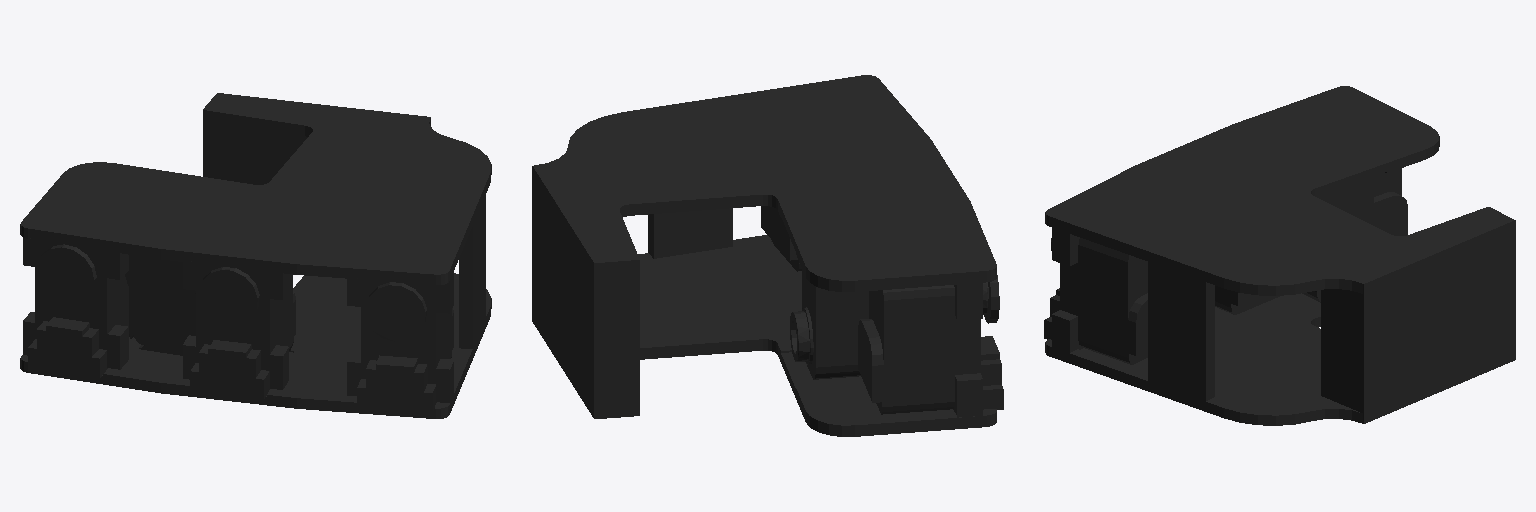
The robot description file, URDF, robot "kuka_allegro":
<?xml version="1.0" ?>
<!-- =================================================================================== -->
<!-- |    This document was autogenerated by xacro from lula_kuka_allegro.urdf.xacro   | -->
<!-- |    EDITING THIS FILE BY HAND IS NOT RECOMMENDED                                 | -->
<!-- =================================================================================== -->
<robot name="kuka_allegro" xmlns:xacro="http://www.ros.org/wiki/xacro">
  <!-- ======================== BASE PARAMS ========================= -->
  <!-- ======================== FINGER PARAMS ======================== -->
  <!-- full height from joint to tip. when used,
       the radius of the finger tip sphere will be subtracted
       and one fixed link will be added for the tip. -->
  <!-- ========================= THUMB PARAMS ========================= -->
  <!-- ========================= LIMITS ========================= -->
  <!-- ============================================================================= -->
  <!-- BASE -->
  <link name="allegro_mount">
    <inertial>
      <mass value="0.05"/>
      <origin rpy="0 0 0" xyz="0 0 0"/>
      <inertia ixx="1e-4" ixy="0" ixz="0" iyy="1e-4" iyz="0" izz="1e-4"/>
    </inertial>
    <visual>
      <origin rpy="0 0 0" xyz="0 0 0"/>
      <geometry>
        <mesh filename="kuka_allegro_description/meshes/mounts/allegro_mount.obj"/>
      </geometry>
      <material name="color_j7"/>
    </visual>
    <collision>
      <origin rpy="0 0 0" xyz="0 0 0"/>
      <geometry>
        <mesh filename="kuka_allegro_description/meshes/mounts/allegro_mount.obj"/>
      </geometry>
    </collision>
  </link>
  <joint name="allegro_mount_joint" type="fixed">
    <origin rpy="0 -1.5708 0.785398" xyz="-0.008219 -0.02063 0.08086"/>
    <parent link="allegro_mount"/>
    <child link="palm_link"/>
  </joint>
  <link name="palm_link">
    <inertial>
      <mass value="0.4154"/>
      <origin rpy="0 0 0" xyz="0 0 0"/>
      <inertia ixx="1e-4" ixy="0" ixz="0" iyy="1e-4" iyz="0" izz="1e-4"/>
    </inertial>
    <visual>
      <geometry>
        <mesh filename="kuka_allegro_description/meshes/allegro/base_link.obj"/>
      </geometry>
      <origin rpy="0 0 0" xyz="0 0 0 "/>
      <material name="Grey">
        <color rgba="0.2 0.2 0.2 1"/>
      </material>
    </visual>
    <collision>
      <origin rpy="0 0 0" xyz="0 0 0"/>
      <geometry>
        <mesh filename="kuka_allegro_description/meshes/allegro/base_link.obj"/>
      </geometry>
    </collision>
  </link>
  
  <gazebo reference="palm_link">
    <material value="Gazebo/Grey"/>
  </gazebo>
  <link name="index_link_0">
    <collision>
      <geometry>
        <mesh filename="kuka_allegro_description/meshes/allegro/primary_base.obj"/>
      </geometry>
    </collision>
    <inertial>
      <mass value="0.005"/>
      <inertia ixx="5.1458e-5" ixy="0" ixz="0" iyy="5.1458e-5" iyz="0" izz="6.125e-5"/>
    </inertial>
    <visual>
      <geometry>
        <mesh filename="kuka_allegro_description/meshes/allegro/primary_base.obj"/>
      </geometry>
      <material name="Grey">
        <color rgba="0.2 0.2 0.2 1"/>
      </material>
    </visual>
  </link>
  <link name="index_link_1">
    <collision>
      <geometry>
        <mesh filename="kuka_allegro_description/meshes/allegro/primary_proximal.obj"/>
      </geometry>
    </collision>
    <inertial>
      <mass value="0.005"/>
      <inertia ixx="5.1458e-5" ixy="0" ixz="0" iyy="5.1458e-5" iyz="0" izz="6.125e-5"/>
    </inertial>
    <visual>
      <geometry>
        <mesh filename="kuka_allegro_description/meshes/allegro/primary_proximal.obj"/>
      </geometry>
      <material name="Grey">
        <color rgba="0.2 0.2 0.2 1"/>
      </material>
    </visual>
  </link>
  <link name="index_link_2">
    <collision>
      <geometry>
        <mesh filename="kuka_allegro_description/meshes/allegro/primary_medial.obj"/>
      </geometry>
    </collision>
    <inertial>
      <mass value="0.05"/>
      <inertia ixx="5.1458e-5" ixy="0" ixz="0" iyy="5.1458e-5" iyz="0" izz="6.125e-5"/>
    </inertial>
    <visual>
      <geometry>
        <mesh filename="kuka_allegro_description/meshes/allegro/primary_medial.obj"/>
      </geometry>
      <material name="Grey">
        <color rgba="0.2 0.2 0.2 1"/>
      </material>
    </visual>
  </link>
  <link name="index_link_3">
    <collision>
      <geometry>
        <mesh filename="kuka_allegro_description/meshes/allegro_ros/link_3.0.STL"/>
      </geometry>
    </collision>
    <inertial>
      <mass value="0.11"/>
      <inertia ixx="5.1458e-5" ixy="0" ixz="0" iyy="5.1458e-5" iyz="0" izz="6.125e-5"/>
    </inertial>
    <visual>
      <origin xyz="0 0 0" rpy="1.570795 0 1.570795" />
      <geometry>
        <mesh filename="kuka_allegro_description/meshes/allegro_ros/link_3.0.STL"/>
      </geometry>
      <material name="Green">
        <color rgba="0. 0.5 0. 1"/>
      </material>
    </visual>
  </link>
  <link name="index_biotac_tip">
    <inertial>
      <mass value="0.04"/>
      <inertia ixx="5.1458e-5" ixy="0" ixz="0" iyy="5.1458e-5" iyz="0" izz="6.125e-5"/>
    </inertial>
    <visual>
      <geometry>
        <mesh filename="kuka_allegro_description/meshes/allegro_ros/link_3.0_tip.STL"/>
      </geometry>
      <material name="white">
        <color rgba=".9 .9 .9 1"/>
      </material>
    </visual>
    <collision>
      <geometry>
        <sphere radius="0.012"/>
      </geometry>
    </collision>
  </link>
  <link name="middle_link_0">
    <collision>
      <geometry>
        <mesh filename="kuka_allegro_description/meshes/allegro/primary_base.obj"/>
      </geometry>
    </collision>
    <inertial>
      <mass value="0.1"/>
      <inertia ixx="5.1458e-5" ixy="0" ixz="0" iyy="5.1458e-5" iyz="0" izz="6.125e-5"/>
    </inertial>
    <visual>
      <geometry>
        <mesh filename="kuka_allegro_description/meshes/allegro/primary_base.obj"/>
      </geometry>
      <material name="Grey">
        <color rgba="0.2 0.2 0.2 1"/>
      </material>
    </visual>
  </link>
  <link name="middle_link_1">
    <collision>
      <geometry>
        <mesh filename="kuka_allegro_description/meshes/allegro/primary_proximal.obj"/>
      </geometry>
    </collision>
    <inertial>
      <mass value="0.1"/>
      <inertia ixx="5.1458e-5" ixy="0" ixz="0" iyy="5.1458e-5" iyz="0" izz="6.125e-5"/>
    </inertial>
    <visual>
      <geometry>
        <mesh filename="kuka_allegro_description/meshes/allegro/primary_proximal.obj"/>
      </geometry>
      <material name="Grey">
        <color rgba="0.2 0.2 0.2 1"/>
      </material>
    </visual>
  </link>
  <link name="middle_link_2">
    <collision>
      <geometry>
        <mesh filename="kuka_allegro_description/meshes/allegro/primary_medial.obj"/>
      </geometry>
    </collision>
    <inertial>
      <mass value="0.1"/>
      <inertia ixx="5.1458e-5" ixy="0" ixz="0" iyy="5.1458e-5" iyz="0" izz="6.125e-5"/>
    </inertial>
    <visual>
      <geometry>
        <mesh filename="kuka_allegro_description/meshes/allegro/primary_medial.obj"/>
      </geometry>
      <material name="Grey">
        <color rgba="0.2 0.2 0.2 1"/>
      </material>
    </visual>
  </link>
  <link name="middle_link_3">
    <collision>
      <geometry>
        <mesh filename="kuka_allegro_description/meshes/allegro_ros/link_3.0.STL"/>
      </geometry>
    </collision>
    <inertial>
      <mass value="0.1"/>
      <inertia ixx="5.1458e-5" ixy="0" ixz="0" iyy="5.1458e-5" iyz="0" izz="6.125e-5"/>
    </inertial>
    <visual>
      <origin xyz="0 0 0" rpy="1.570795 0 1.570795" />
      <geometry>
        <mesh filename="kuka_allegro_description/meshes/allegro_ros/link_3.0.STL"/>
      </geometry>
      <material name="Green">
        <color rgba="0. 0.5 0. 1"/>
      </material>
    </visual>
  </link>
  <link name="middle_biotac_tip">
    <inertial>
      <mass value="0.1"/>
      <inertia ixx="5.1458e-5" ixy="0" ixz="0" iyy="5.1458e-5" iyz="0" izz="6.125e-5"/>
    </inertial>
    <visual>
      <geometry>
        <mesh filename="kuka_allegro_description/meshes/allegro_ros/link_3.0_tip.STL"/>
      </geometry>
      <material name="white">
        <color rgba=".9 .9 .9 1"/>
      </material>
    </visual>
    <collision>
      <geometry>
        <sphere radius="0.012"/>
      </geometry>
    </collision>
  </link>
-->
  <link name="ring_link_0">
    <collision>
      <geometry>
        <mesh filename="kuka_allegro_description/meshes/allegro/primary_base.obj"/>
      </geometry>
    </collision>
    <inertial>
      <mass value="0.1"/>
      <inertia ixx="5.1458e-5" ixy="0" ixz="0" iyy="5.1458e-5" iyz="0" izz="6.125e-5"/>
    </inertial>
    <visual>
      <geometry>
        <mesh filename="kuka_allegro_description/meshes/allegro/primary_base.obj"/>
      </geometry>
      <material name="Grey">
        <color rgba="0.2 0.2 0.2 1"/>
      </material>
    </visual>
  </link>
  <link name="ring_link_1">
    <collision>
      <geometry>
        <mesh filename="kuka_allegro_description/meshes/allegro/primary_proximal.obj"/>
      </geometry>
    </collision>
    <inertial>
      <mass value="0.1"/>
      <inertia ixx="5.1458e-5" ixy="0" ixz="0" iyy="5.1458e-5" iyz="0" izz="6.125e-5"/>
    </inertial>
    <visual>
      <geometry>
        <mesh filename="kuka_allegro_description/meshes/allegro/primary_proximal.obj"/>
      </geometry>
      <material name="Grey">
        <color rgba="0.2 0.2 0.2 1"/>
      </material>
    </visual>
  </link>
  <link name="ring_link_2">
    <collision>
      <geometry>
        <mesh filename="kuka_allegro_description/meshes/allegro/primary_medial.obj"/>
      </geometry>
    </collision>
    <inertial>
      <mass value="0.1"/>
      <inertia ixx="5.1458e-5" ixy="0" ixz="0" iyy="5.1458e-5" iyz="0" izz="6.125e-5"/>
    </inertial>
    <visual>
      <geometry>
        <mesh filename="kuka_allegro_description/meshes/allegro/primary_medial.obj"/>
      </geometry>
      <material name="Grey">
        <color rgba="0.2 0.2 0.2 1"/>
      </material>
    </visual>
  </link>
  <link name="ring_link_3">
    <collision>
      <geometry>
        <mesh filename="kuka_allegro_description/meshes/allegro_ros/link_3.0.STL"/>
      </geometry>
    </collision>
    <inertial>
      <mass value="0.1"/>
      <inertia ixx="5.1458e-5" ixy="0" ixz="0" iyy="5.1458e-5" iyz="0" izz="6.125e-5"/>
    </inertial>
    <visual>
      <origin xyz="0 0 0" rpy="1.570795 0 1.570795" />
      <geometry>
        <mesh filename="kuka_allegro_description/meshes/allegro_ros/link_3.0.STL"/>
      </geometry>
      <material name="Green">
        <color rgba="0 0.5 0 1"/>
      </material>
    </visual>
  </link>

  <link name="ring_biotac_tip">
    <inertial>
      <mass value="0.1"/>
      <inertia ixx="5.1458e-5" ixy="0" ixz="0" iyy="5.1458e-5" iyz="0" izz="6.125e-5"/>
    </inertial>
    <visual>
      <geometry>
        <mesh filename="kuka_allegro_description/meshes/allegro_ros/link_3.0_tip.STL"/>
      </geometry>
      <material name="white">
        <color rgba=".9 .9 .9 1"/>
      </material>
    </visual>
    <collision>
      <geometry>
        <sphere radius="0.012"/>
      </geometry>
    </collision>
  </link>
  <link name="thumb_link_0">
    <collision>
      <geometry>
        <mesh filename="kuka_allegro_description/meshes/allegro/thumb_base.obj"/>
      </geometry>
    </collision>
    <inertial>
      <mass value="0.1"/>
      <inertia ixx="5.1458e-5" ixy="0" ixz="0" iyy="5.1458e-5" iyz="0" izz="6.125e-5"/>
    </inertial>
    <visual>
      <geometry>
        <mesh filename="kuka_allegro_description/meshes/allegro/thumb_base.obj"/>
      </geometry>
      <material name="Grey">
        <color rgba="0.2 0.2 0.2 1"/>
      </material>
    </visual>
  </link>
  <link name="thumb_link_1">
    <collision>
      <geometry>
        <mesh filename="kuka_allegro_description/meshes/allegro/thumb_proximal.obj"/>
      </geometry>
    </collision>
    <inertial>
      <mass value="0.1"/>
      <inertia ixx="5.1458e-5" ixy="0" ixz="0" iyy="5.1458e-5" iyz="0" izz="6.125e-5"/>
    </inertial>
    <visual>
      <geometry>
        <mesh filename="kuka_allegro_description/meshes/allegro/thumb_proximal.obj"/>
      </geometry>
      <material name="Grey">
        <color rgba="0.2 0.2 0.2 1"/>
      </material>
    </visual>
  </link>
  <link name="thumb_link_2">
    <collision>
      <geometry>
        <mesh filename="kuka_allegro_description/meshes/allegro/thumb_medial.obj"/>
      </geometry>
    </collision>
    <inertial>
      <mass value="0.1"/>
      <inertia ixx="5.1458e-5" ixy="0" ixz="0" iyy="5.1458e-5" iyz="0" izz="6.125e-5"/>
    </inertial>
    <visual>
      <geometry>
        <mesh filename="kuka_allegro_description/meshes/allegro/thumb_medial.obj"/>
      </geometry>
      <material name="Grey">
        <color rgba="0.2 0.2 0.2 1"/>
      </material>
    </visual>
  </link>
  <link name="thumb_link_3">
    <collision>
      <geometry>
        <mesh filename="kuka_allegro_description/meshes/allegro_ros/link_15.0.STL"/>
      </geometry>
    </collision>
    <inertial>
      <mass value="0.1"/>
      <inertia ixx="5.1458e-5" ixy="0" ixz="0" iyy="5.1458e-5" iyz="0" izz="6.125e-5"/>
    </inertial>
    <visual>
      <origin xyz="0 0 0" rpy="1.570795 0 1.570795" />
      <geometry>
        <mesh filename="kuka_allegro_description/meshes/allegro_ros/link_15.0.STL"/>
      </geometry>
      <material name="Green">
        <color rgba="0 0.5 0 1"/>
      </material>
    </visual>
  </link>
  <link name="thumb_biotac_tip">
    <inertial>
      <mass value="0.1"/>
      <inertia ixx="5.1458e-5" ixy="0" ixz="0" iyy="5.1458e-5" iyz="0" izz="6.125e-5"/>
    </inertial>
    <visual>
      <geometry>
        <mesh filename="kuka_allegro_description/meshes/allegro_ros/link_15.0_tip.STL"/>
      </geometry>
      <material name="white">
        <color rgba=".9 .9 .9 1"/>
      </material>
    </visual>
    <collision>
      <geometry>
        <sphere radius="0.012"/>
      </geometry>
    </collision>
  </link>

  <joint name="index_joint_0" type="revolute">
    <axis xyz="0 0 1"/>
    <limit effort="0.35" lower="-0.558488888889" upper="0.558488888889" velocity="6.283"/>
    <origin rpy="3.1415 -1.57075 -0.0872638888889" xyz="0.0514302 -0.03632 -0.0113"/>
    <parent link="palm_link"/>
    <child link="index_link_0"/>
    <dynamics damping="0.025" friction="0.035"/>
  </joint>
  <joint name="index_joint_1" type="revolute">
    <axis xyz="0 0 1"/>
    <limit effort="0.35" lower="-0.279244444444" upper="1.727825" velocity="6.283"/>
    <origin rpy="3.1415 -1.57075 1.57075" xyz="0.0 0.0 0.0"/>
    <parent link="index_link_0"/>
    <child link="index_link_1"/>
    <dynamics damping="0.025" friction="0.035"/>
  </joint>
  <joint name="index_joint_2" type="revolute">
    <axis xyz="0 0 1"/>
    <limit effort="0.35" lower="-0.279244444444" upper="1.727825" velocity="6.283"/>
    <origin rpy="0.0 0.0 0.0" xyz="0.054 0.0 0.0"/>
    <parent link="index_link_1"/>
    <child link="index_link_2"/>
    <dynamics damping="0.025" friction="0.035"/>
  </joint>
  <joint name="index_joint_3" type="revolute">
    <axis xyz="0 0 1"/>
    <limit effort="0.35" lower="-0.279244444444" upper="1.727825" velocity="6.283"/>
    <origin rpy="0.0 0.0 0.0" xyz="0.0384 0.0 0.0"/>
    <parent link="index_link_2"/>
    <child link="index_link_3"/>
    <dynamics damping="0.025" friction="0.035"/>
  </joint>
  <joint name="index_biotac_tip_joint" type="fixed">
    <origin rpy="1.57079 1.57079 1.57079" xyz="0.0266 0 0"/>
    <parent link="index_link_3"/>
    <child link="index_biotac_tip"/>
  </joint>
  <joint name="middle_joint_0" type="revolute">
    <axis xyz="0 0 1"/>
    <limit effort="0.35" lower="-0.558488888889" upper="0.558488888889" velocity="6.283"/>
    <origin rpy="3.1415 -1.57075 0" xyz="0.0537375 0.0087771 -0.0113"/>
    <parent link="palm_link"/>
    <child link="middle_link_0"/>
    <dynamics friction="0.035"/>
  </joint>

  <joint name="middle_joint_1" type="revolute">
    <axis xyz="0 0 1"/>
    <limit effort="0.35" lower="-0.279244444444" upper="1.727825" velocity="6.283"/>
    <origin rpy="3.1415 -1.57075 1.57075" xyz="0.0 0.0 0.0"/>
    <parent link="middle_link_0"/>
    <child link="middle_link_1"/>
    <dynamics friction="0.035"/>
  </joint>
  <joint name="middle_joint_2" type="revolute">
    <axis xyz="0 0 1"/>
    <limit effort="0.35" lower="-0.279244444444" upper="1.727825" velocity="6.283"/>
    <origin rpy="0.0 0.0 0.0" xyz="0.054 0.0 0.0"/>
    <parent link="middle_link_1"/>
    <child link="middle_link_2"/>
    <dynamics friction="0.035"/>
  </joint>
  <joint name="middle_joint_3" type="revolute">
    <axis xyz="0 0 1"/>
    <limit effort="0.35" lower="-0.279244444444" upper="1.727825" velocity="6.283"/>
    <origin rpy="0.0 0.0 0.0" xyz="0.0384 0.0 0.0"/>
    <parent link="middle_link_2"/>
    <child link="middle_link_3"/>
    <dynamics friction="0.035"/>
  </joint>
  <joint name="middle_biotac_tip_joint" type="fixed">
    <origin rpy="1.57079 1.57079 1.57079" xyz="0.0266 0 0"/>
    <parent link="middle_link_3"/>
    <child link="middle_biotac_tip"/>
  </joint>

  <joint name="ring_joint_0" type="revolute">
    <axis xyz="0 0 1"/>
    <limit effort="0.35" lower="-0.558488888889" upper="0.558488888889" velocity="6.283"/>
    <origin rpy="3.1415 -1.57075 0.0872638888889" xyz="0.0514302 0.0538749 -0.0113"/>
    <parent link="palm_link"/>
    <child link="ring_link_0"/>
    <dynamics friction="0.035"/>
  </joint>
  <joint name="ring_joint_1" type="revolute">
    <axis xyz="0 0 1"/>
    <limit effort="0.35" lower="-0.279244444444" upper="1.727825" velocity="6.283"/>
    <origin rpy="3.1415 -1.57075 1.57075" xyz="0.0 0.0 0.0"/>
    <parent link="ring_link_0"/>
    <child link="ring_link_1"/>
    <dynamics friction="0.035"/>
  </joint>
  <joint name="ring_joint_2" type="revolute">
    <axis xyz="0 0 1"/>
    <limit effort="0.35" lower="-0.279244444444" upper="1.727825" velocity="6.283"/>
    <origin rpy="0.0 0.0 0.0" xyz="0.054 0.0 0.0"/>
    <parent link="ring_link_1"/>
    <child link="ring_link_2"/>
    <dynamics friction="0.035"/>
  </joint>
  <joint name="ring_joint_3" type="revolute">
    <axis xyz="0 0 1"/>
    <limit effort="0.35" lower="-0.279244444444" upper="1.727825" velocity="6.283"/>
    <origin rpy="0.0 0.0 0.0" xyz="0.0384 0.0 0.0"/>
    <parent link="ring_link_2"/>
    <child link="ring_link_3"/>
    <dynamics friction="0.035"/>
  </joint>

  <joint name="ring_biotac_tip_joint" type="fixed">
    <origin rpy="1.57079 1.57079 1.57079" xyz="0.0266 0 0"/>
    <parent link="ring_link_3"/>
    <child link="ring_biotac_tip"/>
  </joint>

  <joint name="thumb_joint_0" type="revolute">
    <axis xyz="0 0 1"/>
    <limit effort="0.35" lower="0.279244444444" upper="1.57075" velocity="6.283"/>
    <origin rpy="-1.57075 -1.57075 1.48348611111" xyz="-0.0367482 -0.0081281 -0.0295"/>
    <parent link="palm_link"/>
    <child link="thumb_link_0"/>
    <dynamics friction="0.035"/>
  </joint>
  <joint name="thumb_joint_1" type="revolute">
    <axis xyz="0 0 1"/>
    <limit effort="0.35" lower="-0.331602777778" upper="1.15188333333" velocity="6.283"/>
    <origin rpy="1.57075 0 0" xyz="0.005 0.0 0.0"/>
    <parent link="thumb_link_0"/>
    <child link="thumb_link_1"/>
    <dynamics friction="0.035"/>
  </joint>
  <joint name="thumb_joint_2" type="revolute">
    <axis xyz="0 0 1"/>
    <limit effort="0.35" lower="-0.279244444444" upper="1.727825" velocity="6.283"/>
    <origin rpy="3.1415 -1.57075 0.0" xyz="0 0 0.0554"/>
    <parent link="thumb_link_1"/>
    <child link="thumb_link_2"/>
    <dynamics friction="0.035"/>
  </joint>
  <joint name="thumb_joint_3" type="revolute">
    <axis xyz="0 0 1"/>
    <limit effort="0.35" lower="-0.279244444444" upper="1.76273055556" velocity="6.283"/>
    <origin rpy="0.0 0.0 0.0" xyz="0.0514 0.0 0.0"/>
    <parent link="thumb_link_2"/>
    <child link="thumb_link_3"/>
    <dynamics friction="0.035"/>
  </joint>
  <joint name="thumb_biotac_tip_joint" type="fixed">
    <origin rpy="1.57079 1.57079 1.57079" xyz="0.0422 0 0"/>
    <parent link="thumb_link_3"/>
    <child link="thumb_biotac_tip"/>
  </joint>

</robot>

--- Render facts (derived) ---
The picture shows the robot from 3 angles, left to right: view 1: azimuth 30°, elevation 25°; view 2: azimuth 150°, elevation 25°; view 3: azimuth 270°, elevation 25°; orthographic projection.
Model kuka_allegro with 22 links and 21 joints (16 revolute, 5 fixed), rooted at allegro_mount, posed all joints at 0 but 1 set to mid-range because 0 is outside their limits (thumb_joint_0 = 0.925).
Links seen in each view (by area): view 1: palm_link; view 2: palm_link; view 3: palm_link.
Link boxes in pixels (x1,y1,x2,y2): palm_link: [20, 93, 491, 418]; palm_link: [532, 75, 1003, 436]; palm_link: [1044, 86, 1515, 425].
Bounding box of the posed robot: 0.1249 × 0.1242 × 0.0408 m (x, y, z).
1 mesh visuals loaded from 12 distinct referenced files (1 OBJ); not drawn: 21 (reference not matched to a file when rendering).